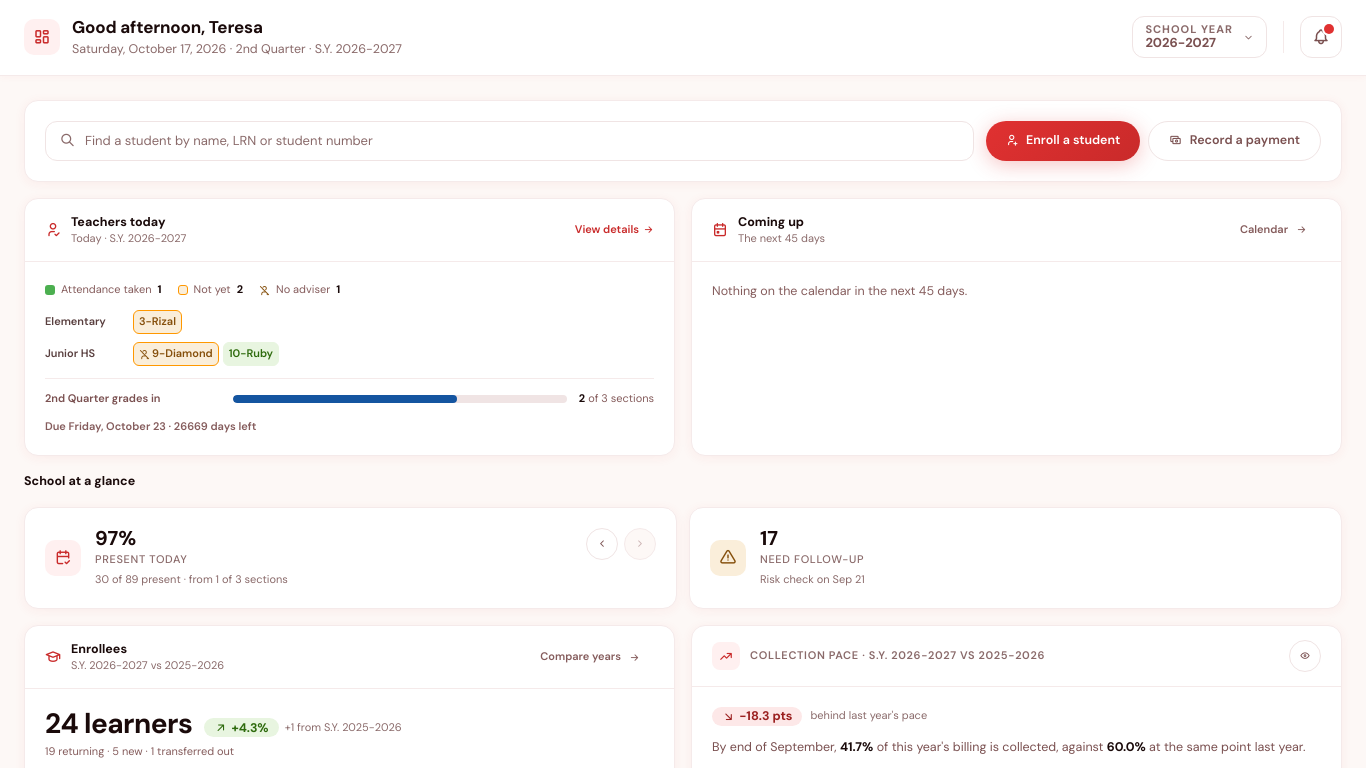
AdminHome — teachers today › opens every section in the details window
What coordinates should you click on to do the following:
click the button with aria-label "Teachers today: open details"
I would click on:
 (350, 327)
Its box is [25,198,674,455].
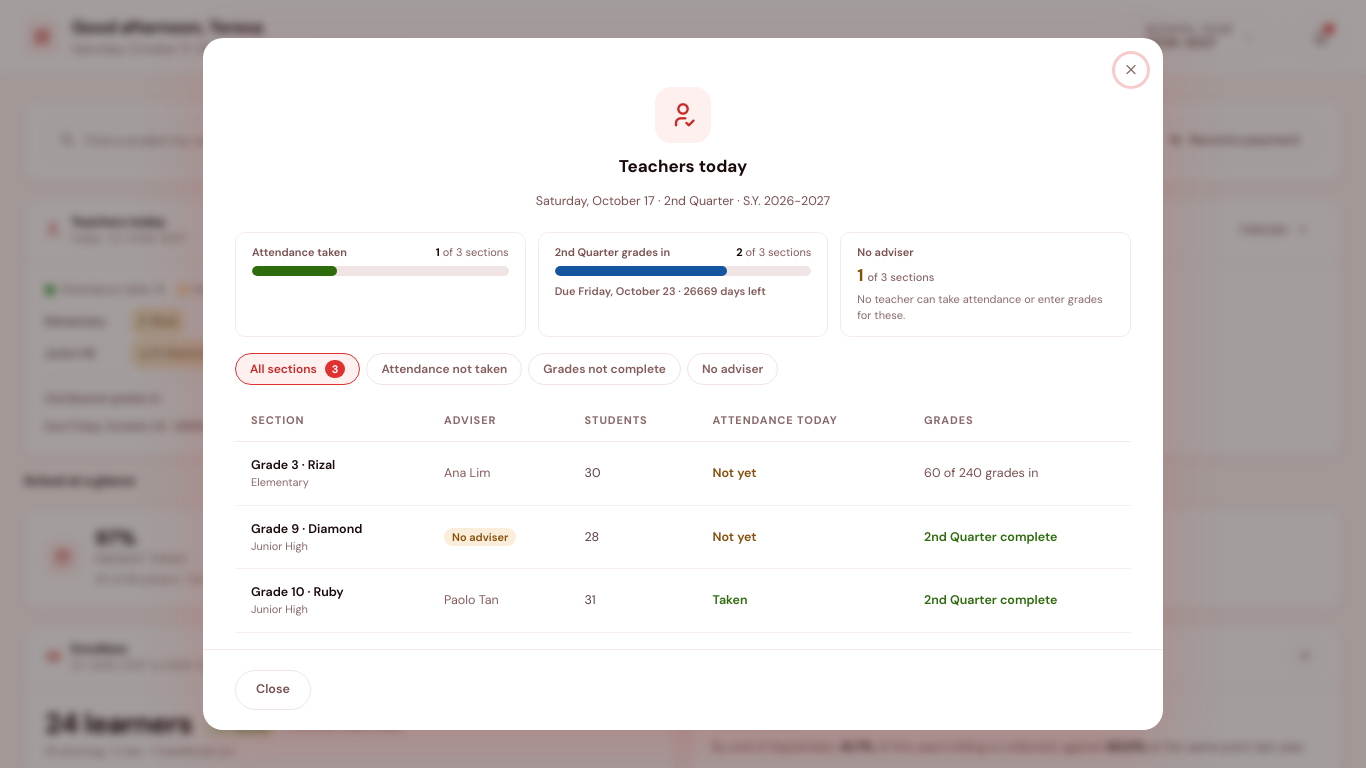
Now the text "Grade 3 · Rizal" is shown, box [251,457,335,473]
Now the text "Grade 10 · Ruby" is shown, box [251,584,344,600]
Now the text "60 of 240 grades in" is shown, box [924,465,1038,481]
